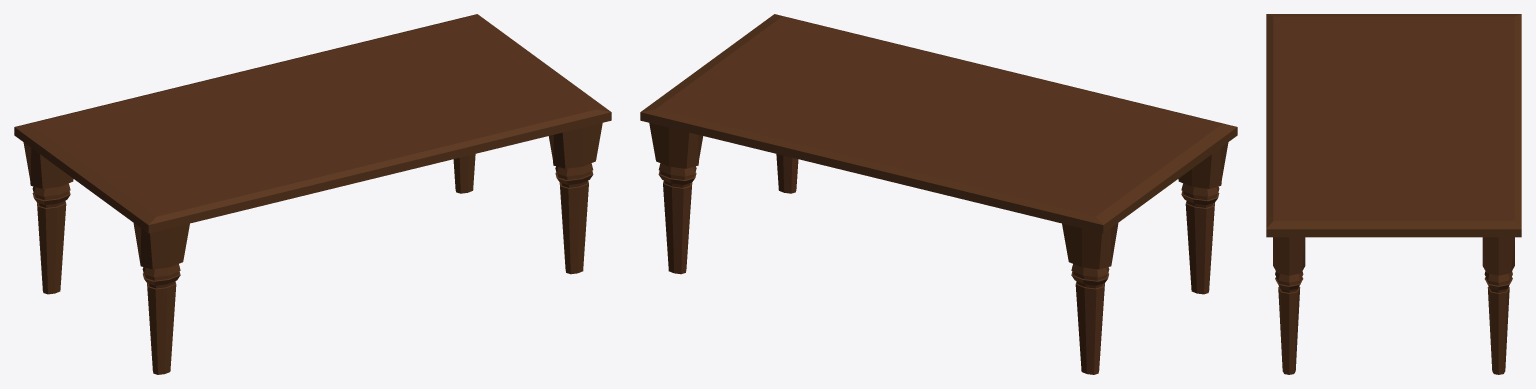
File: Table.fbx
3 views of the same model, side by side, from view 1: azimuth 30°, elevation 25°; view 2: azimuth 150°, elevation 25°; view 3: azimuth 270°, elevation 25° (orthographic). The views are drawn at different scales.
Parts seen in each view (by area): view 1: Table; view 2: Table; view 3: Table.
Boxes of the visible parts, <box> form: Table: <box>14,14,611,374</box>; Table: <box>640,14,1237,374</box>; Table: <box>1266,14,1521,374</box>.
Size of the model in its own units: 1.53 by 0.5202 by 0.77.
